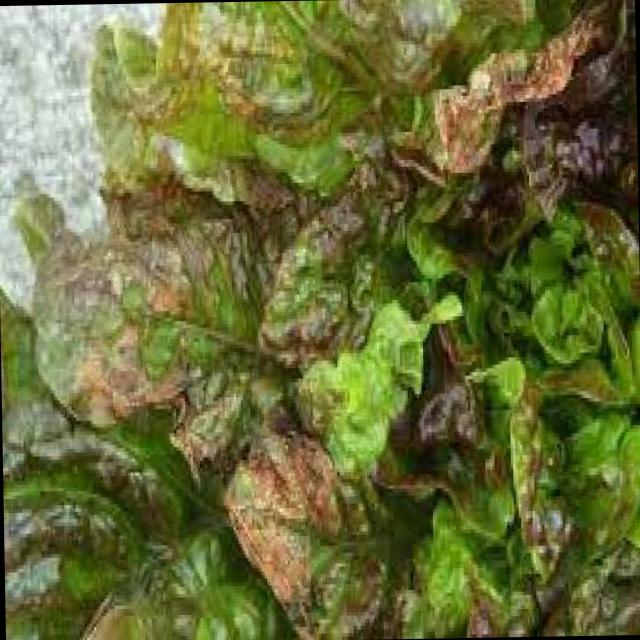Powdery_Mildew: (63, 240, 384, 627)
